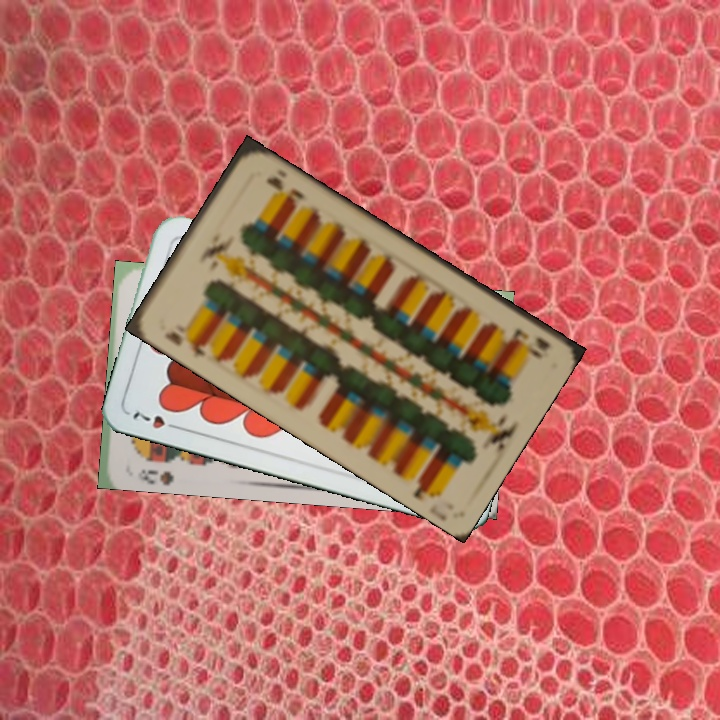E10: (160, 320, 211, 361), (506, 324, 553, 361)
H7: (128, 406, 184, 432)
S8: (133, 465, 176, 485)
